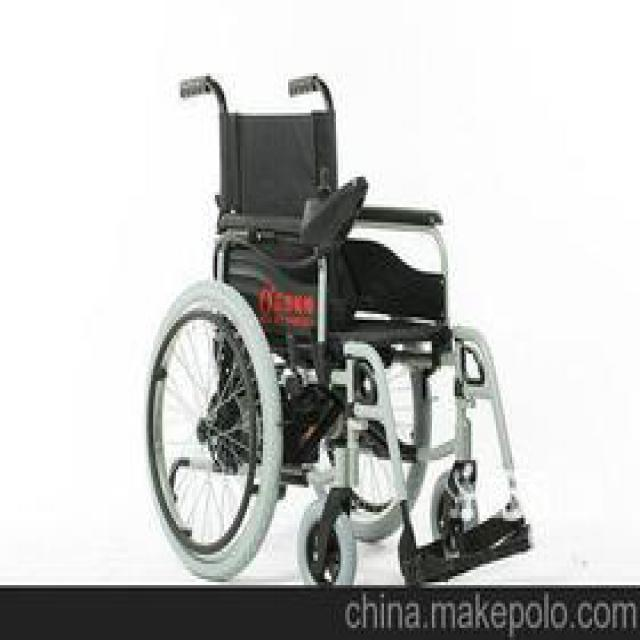wheelchairs: (142, 75, 536, 583)
